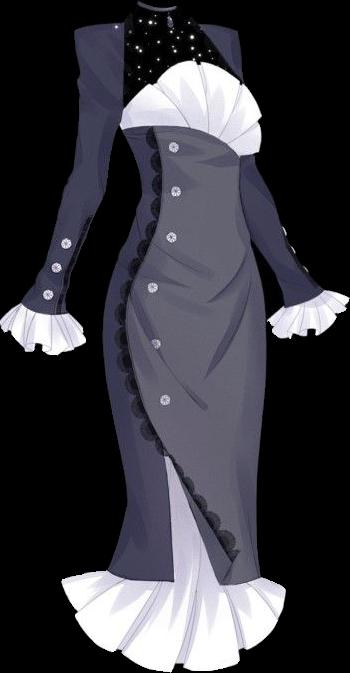Bodice: (120, 0, 262, 198)
Hemline: (104, 448, 263, 591), (57, 579, 291, 672)
Neckline: (124, 56, 268, 150), (120, 120, 243, 161), (136, 0, 183, 14)
Skirt: (62, 199, 285, 671)
Sleeve: (0, 23, 123, 354)
Sleeveline: (117, 23, 125, 124), (19, 300, 66, 316)
